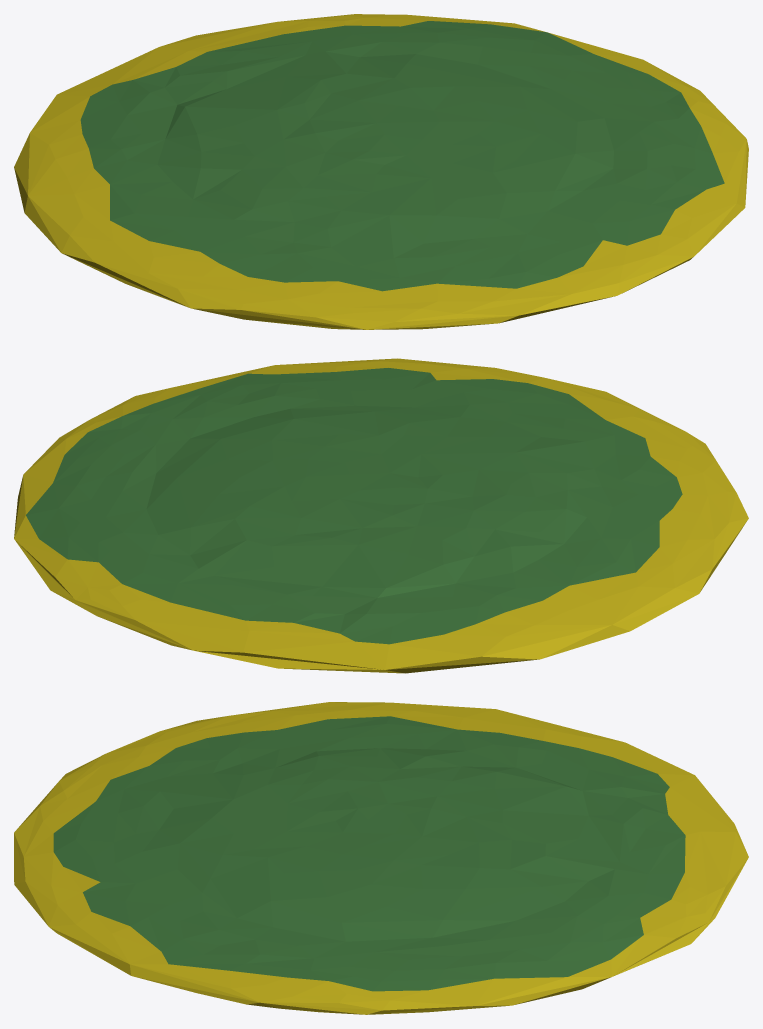
File: nav-mesh.glb
3 views of the same model, one above another, from view 1: azimuth 30°, elevation 25°; view 2: azimuth 150°, elevation 25°; view 3: azimuth 270°, elevation 25° (orthographic).
Parts seen in each view (by area): view 1: navmesh; view 2: navmesh; view 3: navmesh.
Boxes of the visible parts, <box> form: navmesh: <box>14,14,748,329</box>; navmesh: <box>14,358,748,673</box>; navmesh: <box>14,702,748,1014</box>.
Size of the model in its own units: 32.72 by 2.59 by 32.58.
